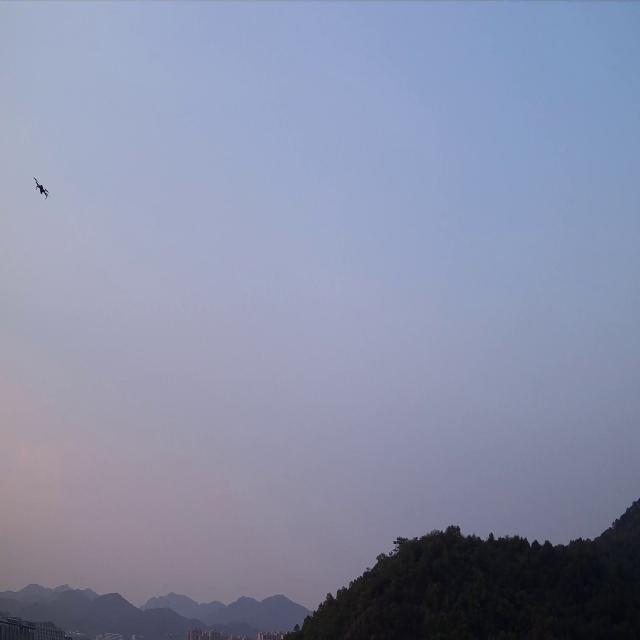UAV: (33, 176, 51, 201)
